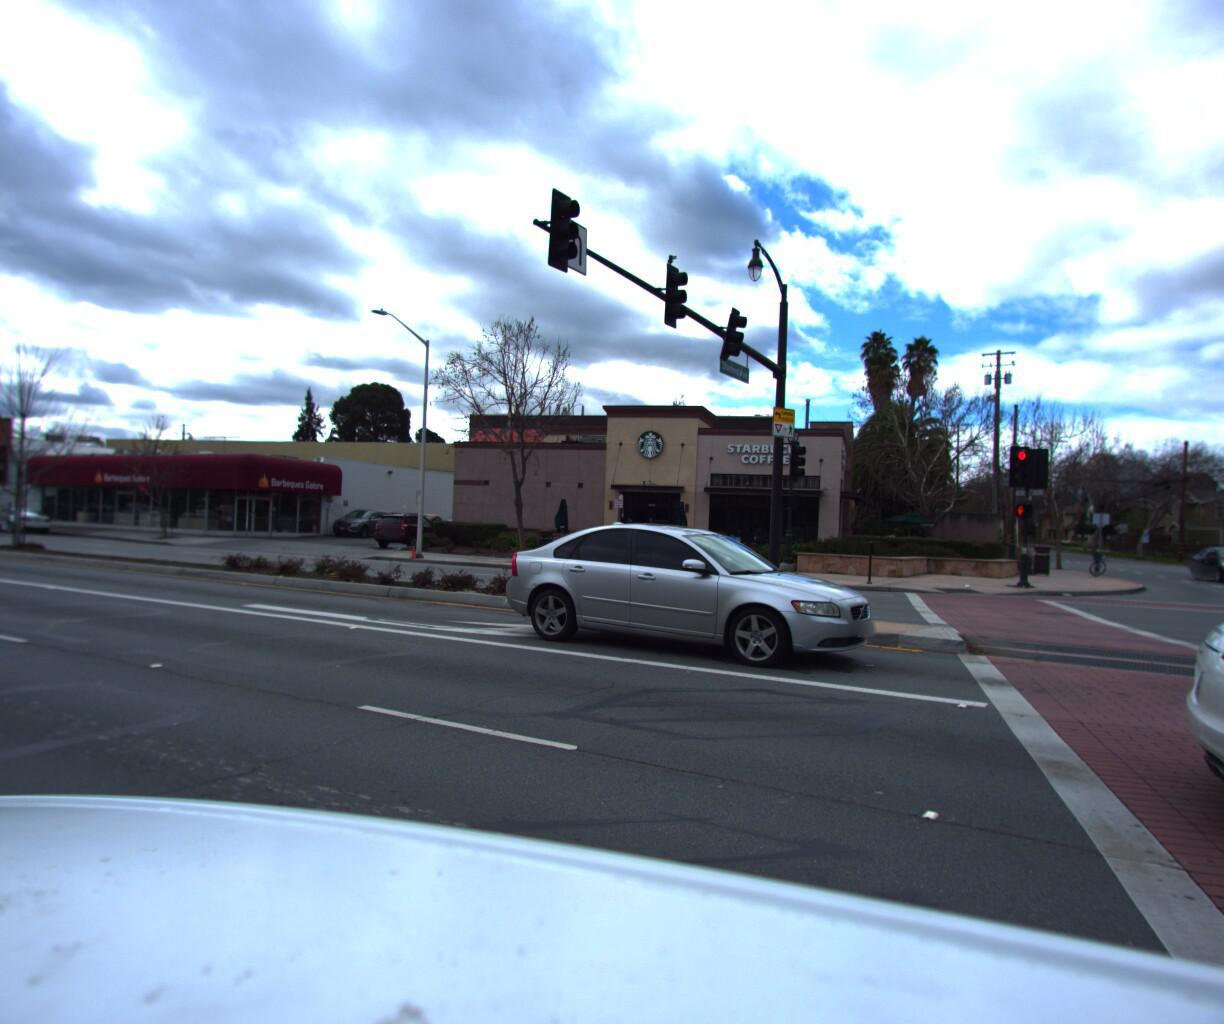bicycle: (1083, 543, 1108, 571)
car: (487, 506, 893, 677), (1153, 525, 1224, 1024), (369, 504, 450, 541), (0, 497, 55, 528), (1182, 537, 1224, 577)
truck: (0, 476, 9, 531)
